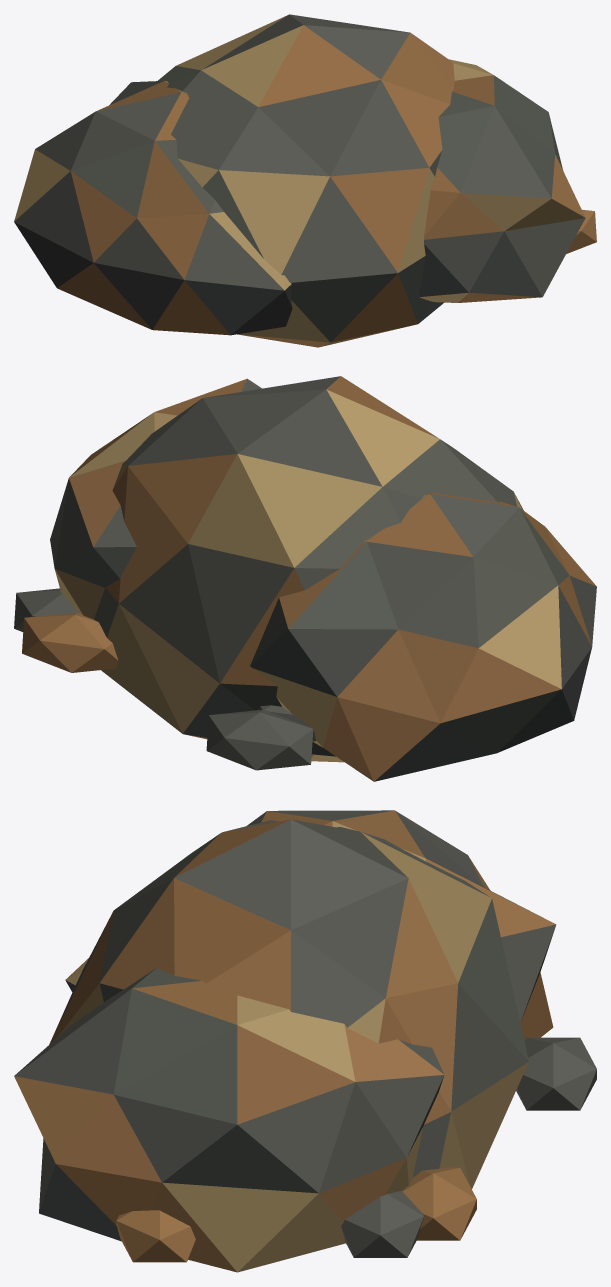
File: ironstone_2.glb
3 renders of one model, top to bottom at view 1: azimuth 30°, elevation 25°; view 2: azimuth 150°, elevation 25°; view 3: azimuth 270°, elevation 25°, orthographic. The views are drawn at different scales.
Parts seen in each view (by area): view 1: ironstone_2_mesh; view 2: ironstone_2_mesh; view 3: ironstone_2_mesh.
Part boxes in pixels (x1,y1,x2,y2): ironstone_2_mesh: (14,14,596,347); ironstone_2_mesh: (14,376,596,781); ironstone_2_mesh: (14,810,596,1272).
Size of the model in its own units: 1.79 by 0.9946 by 1.44.
